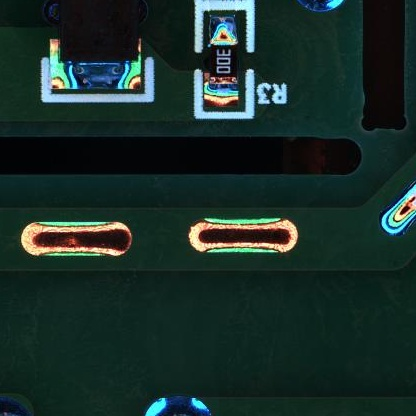spot: (143, 396, 208, 416)
